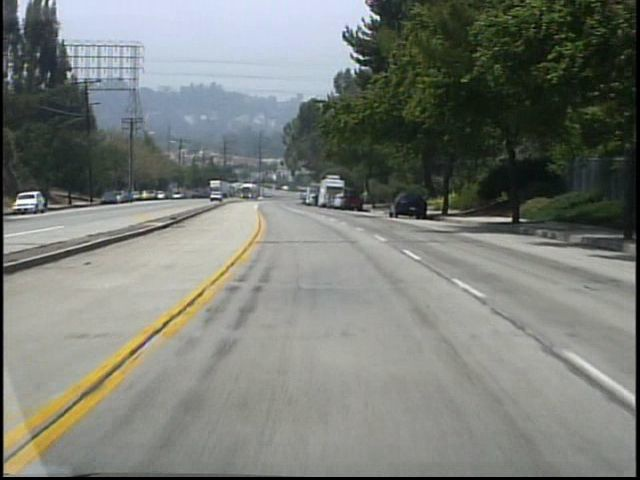person: (358, 186, 369, 208)
